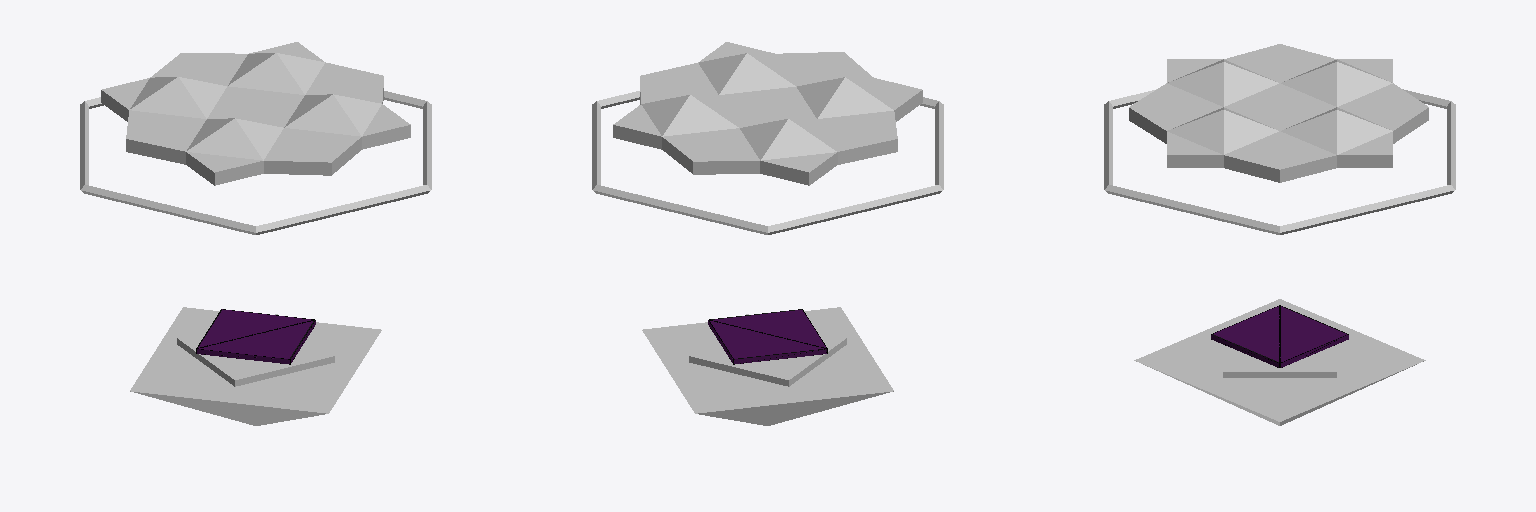
3 renders of one model, left to right at view 1: azimuth 30°, elevation 25°; view 2: azimuth 150°, elevation 25°; view 3: azimuth 270°, elevation 25°, orthographic.
Parts seen in each view (by area): view 1: 立方体.013, 円錐, トーラス.002, 立方体.001, 立方体; view 2: 立方体.013, 円錐, トーラス.002, 立方体.001, 立方体; view 3: 立方体.013, 円錐, トーラス.002, 立方体.001, 立方体.
Boxes of the visible parts, x1=… form: 立方体.013: x1=101, y1=42, x2=410, y2=185; 円錐: x1=130, y1=307, x2=381, y2=425; トーラス.002: x1=80, y1=91, x2=431, y2=234; 立方体.001: x1=196, y1=309, x2=315, y2=364; 立方体: x1=177, y1=314, x2=334, y2=386; 立方体.013: x1=613, y1=42, x2=922, y2=185; 円錐: x1=642, y1=307, x2=893, y2=425; トーラス.002: x1=592, y1=91, x2=943, y2=234; 立方体.001: x1=708, y1=309, x2=827, y2=364; 立方体: x1=689, y1=314, x2=846, y2=386; 立方体.013: x1=1129, y1=44, x2=1428, y2=182; 円錐: x1=1134, y1=299, x2=1425, y2=425; トーラス.002: x1=1104, y1=89, x2=1455, y2=234; 立方体.001: x1=1211, y1=305, x2=1348, y2=367; 立方体: x1=1223, y1=323, x2=1336, y2=377.
Bounding box in the file's own units: 5.98 × 5.54 × 5.18.
Materials: 2 (1 with a texture image).